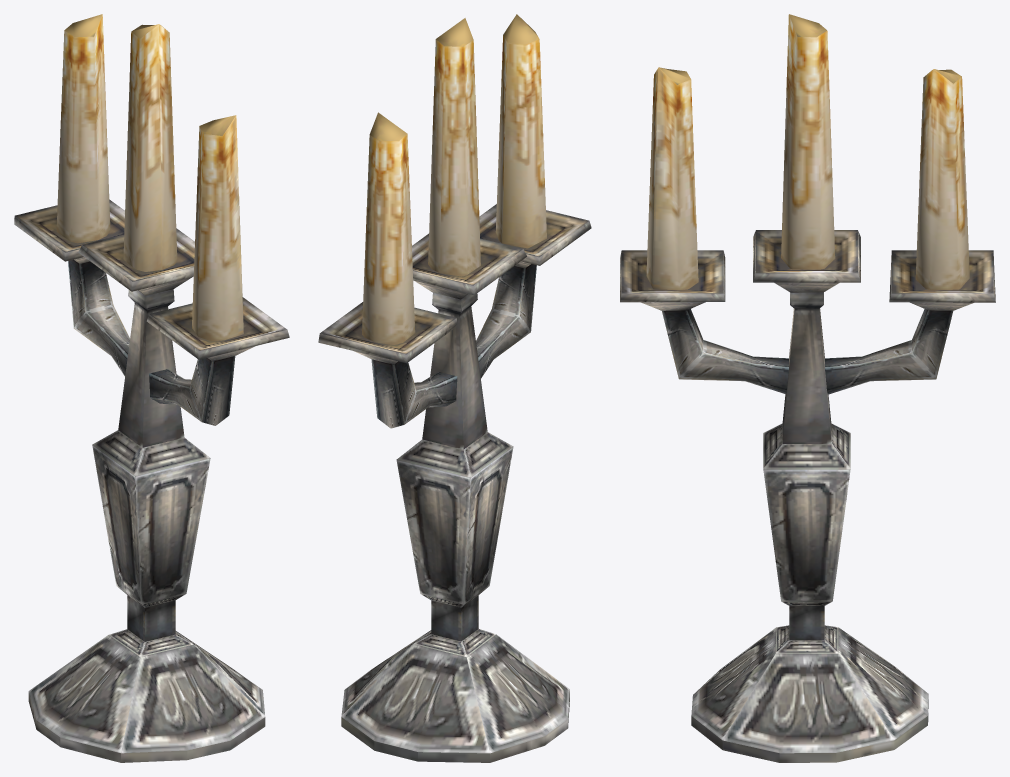
File: candelabras.obj
The picture shows the model from 3 angles, left to right: view 1: azimuth 30°, elevation 25°; view 2: azimuth 150°, elevation 25°; view 3: azimuth 270°, elevation 25°; orthographic projection.
Parts seen in each view (by area): view 1: candelabras:Geoset0; view 2: candelabras:Geoset0; view 3: candelabras:Geoset0.
Boxes of the visible parts, x1,y1,x2,y2 form: candelabras:Geoset0: (14, 14, 289, 762); candelabras:Geoset0: (318, 14, 591, 762); candelabras:Geoset0: (620, 14, 995, 762).
Bounding box in the file's own units: 0.4182 × 1.39 × 0.6743.
1 material, 1 textured.
